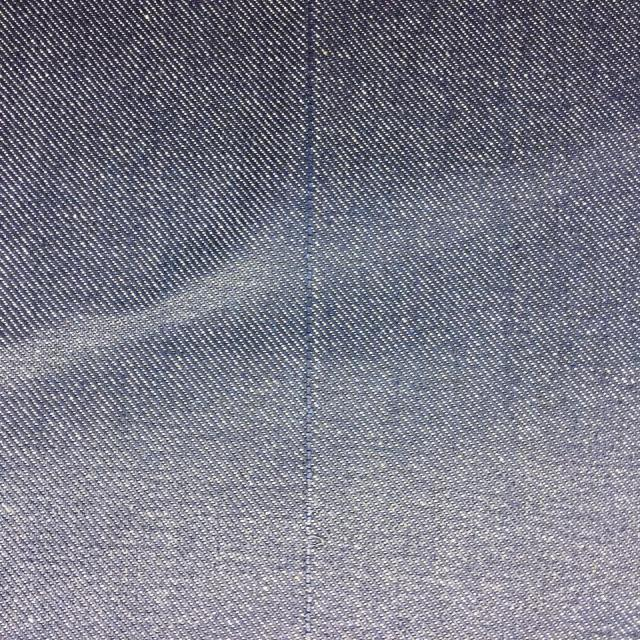Line: (294, 0, 320, 640)
